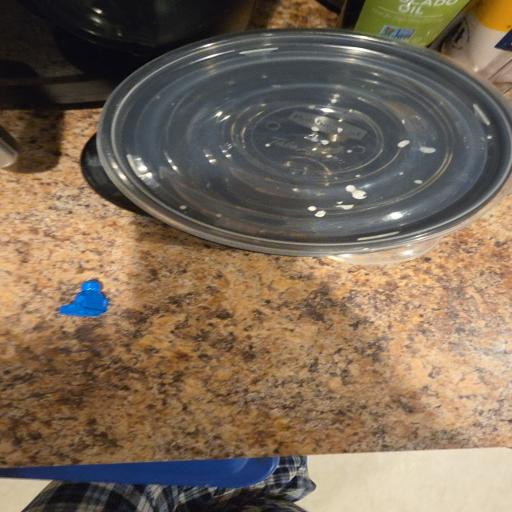Blue: (59, 281, 108, 316)
